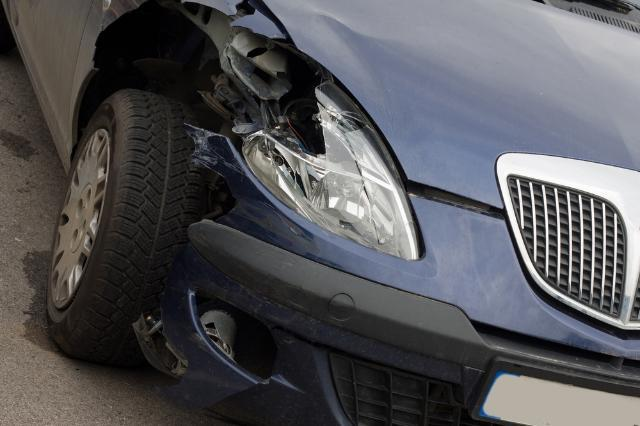crack: (203, 380, 263, 409)
dent: (307, 0, 394, 80)
lamp broken: (225, 32, 422, 261)
no part: (93, 0, 296, 145), (197, 295, 278, 382)
scratch: (187, 127, 242, 174)
